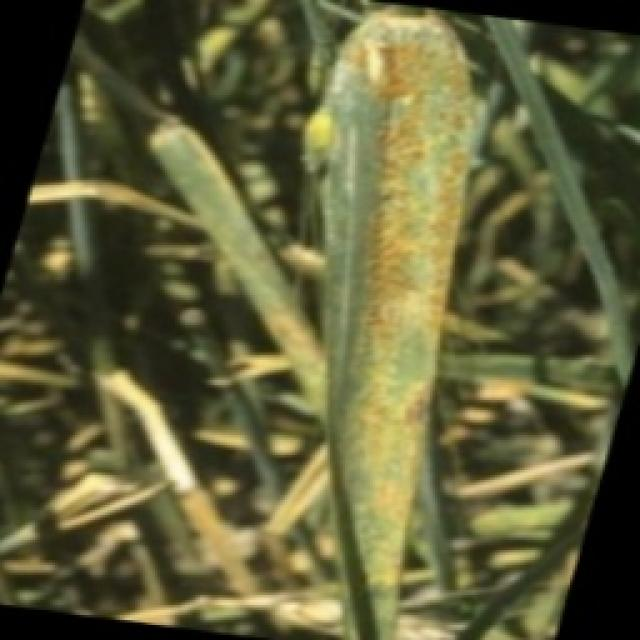Elderberry_rust: (300, 5, 510, 640)
